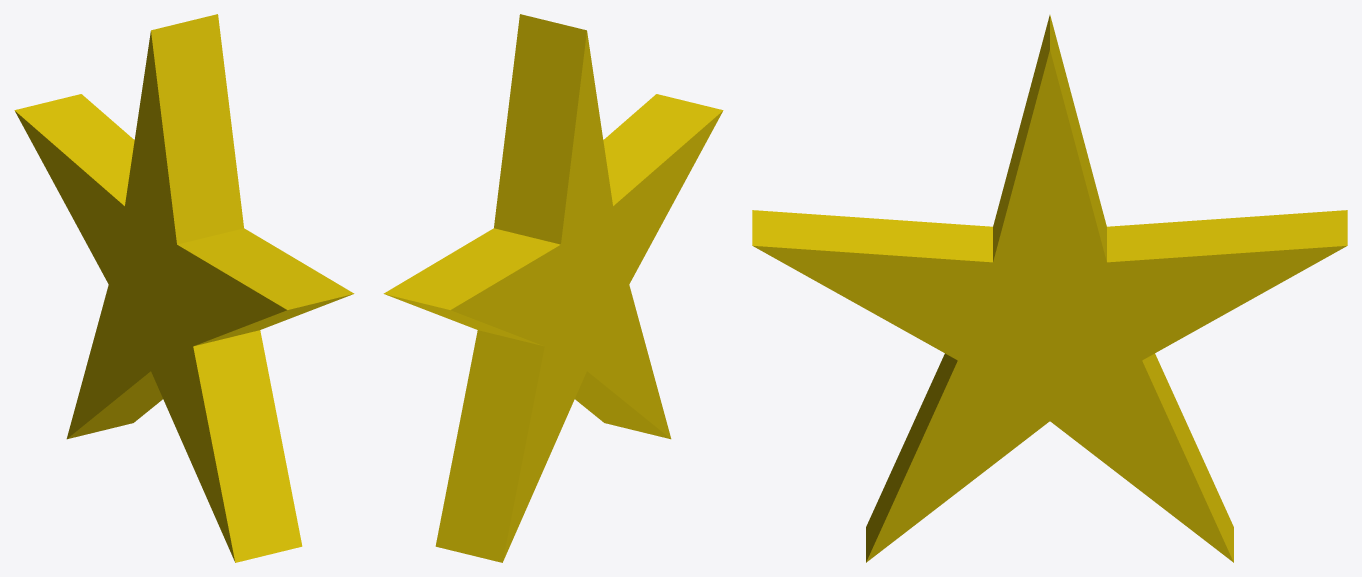
The model's file is star_1.fbx.
The picture shows the model from 3 angles, left to right: view 1: azimuth 30°, elevation 25°; view 2: azimuth 150°, elevation 25°; view 3: azimuth 270°, elevation 25°; orthographic projection. The views are drawn at different scales.
Visible parts, largest first — view 1: star_1; view 2: star_1; view 3: star_1.
Part boxes in pixels (left/top/right/bottom): star_1: left=14, top=14, right=354, bottom=562; star_1: left=383, top=14, right=723, bottom=562; star_1: left=752, top=15, right=1347, bottom=562.
Bounding box in the file's own units: 30.57 × 205 × 216.
